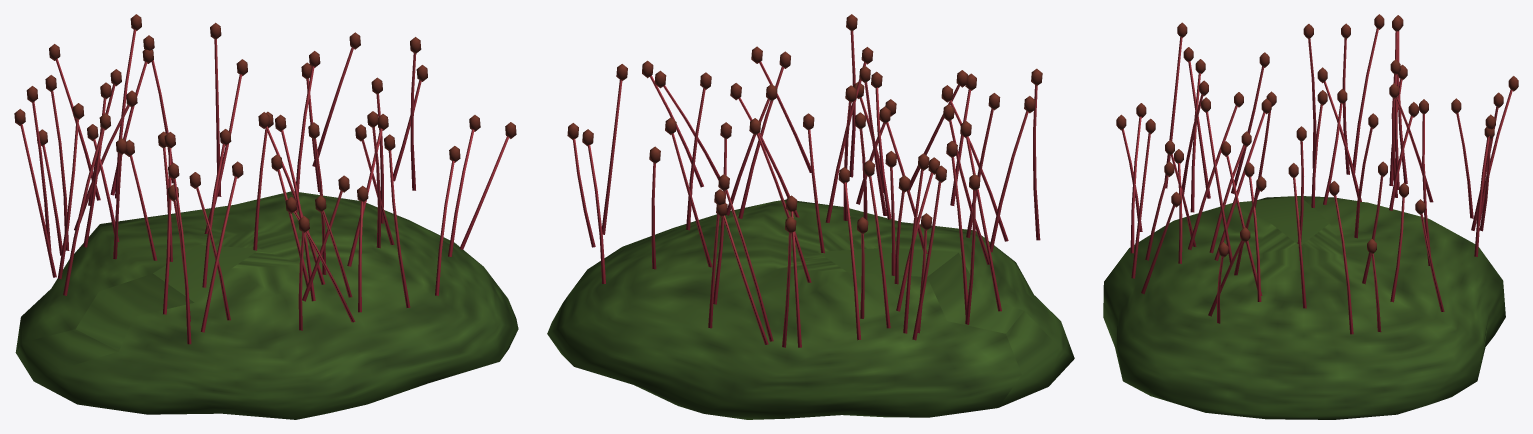
The model's file is firemoss.glb.
3 views of the same model, side by side, from view 1: azimuth 30°, elevation 25°; view 2: azimuth 150°, elevation 25°; view 3: azimuth 270°, elevation 25° (orthographic). The views are drawn at different scales.
Visible parts, largest first — view 1: firemoss; view 2: firemoss; view 3: firemoss.
Boxes of the visible parts, x1,y1,x2,y2 form: firemoss: [14, 14, 518, 419]; firemoss: [547, 14, 1074, 419]; firemoss: [1103, 14, 1518, 419].
Bounding box in the file's own units: 0.2662 × 0.1444 × 0.2318.
1 material, 1 textured.
